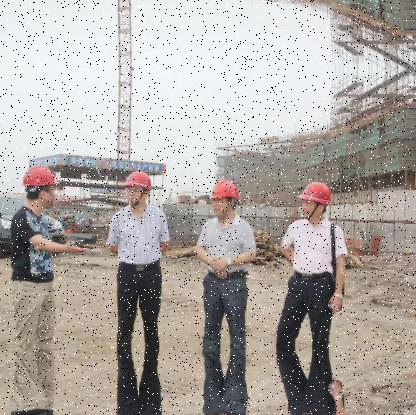helmet: (19, 162, 60, 209), (295, 178, 333, 222), (207, 175, 240, 219), (120, 166, 154, 208)
